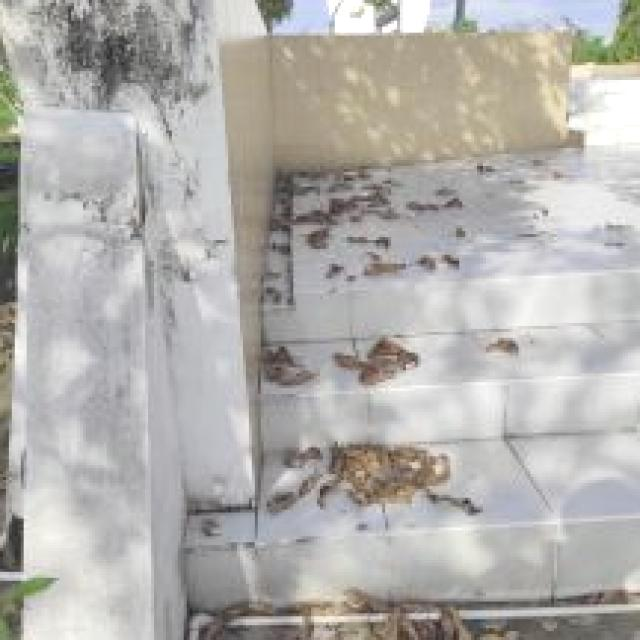upstair: (244, 256, 640, 635)
